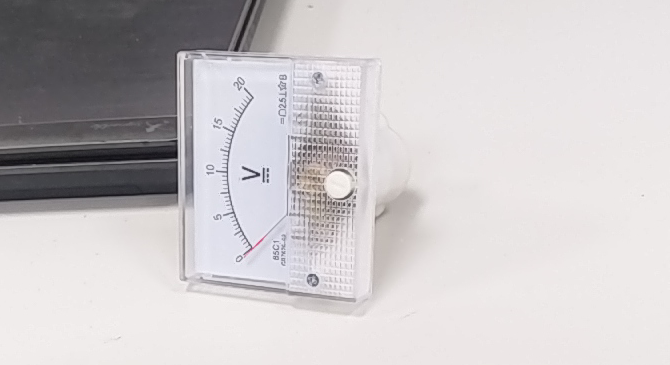Volt_Meter: (178, 49, 294, 304)
